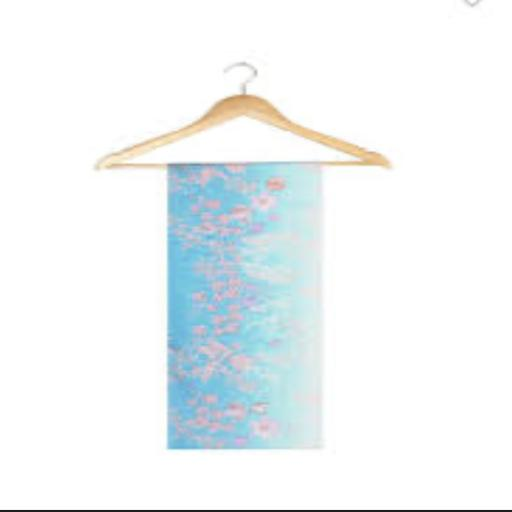dupatta: (145, 151, 339, 463)
